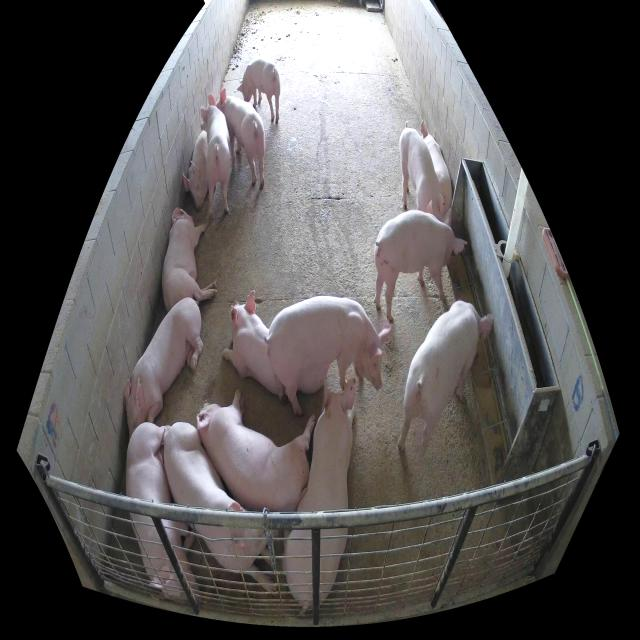pig: (164, 422, 280, 594), (283, 378, 355, 612), (198, 381, 316, 514), (268, 295, 394, 417), (397, 300, 492, 453), (126, 423, 204, 605), (125, 299, 203, 438), (374, 208, 468, 321), (223, 288, 280, 402), (161, 206, 218, 314), (216, 88, 266, 189), (398, 126, 445, 220), (201, 94, 230, 220), (236, 55, 281, 124), (420, 120, 452, 216), (182, 129, 208, 208)
